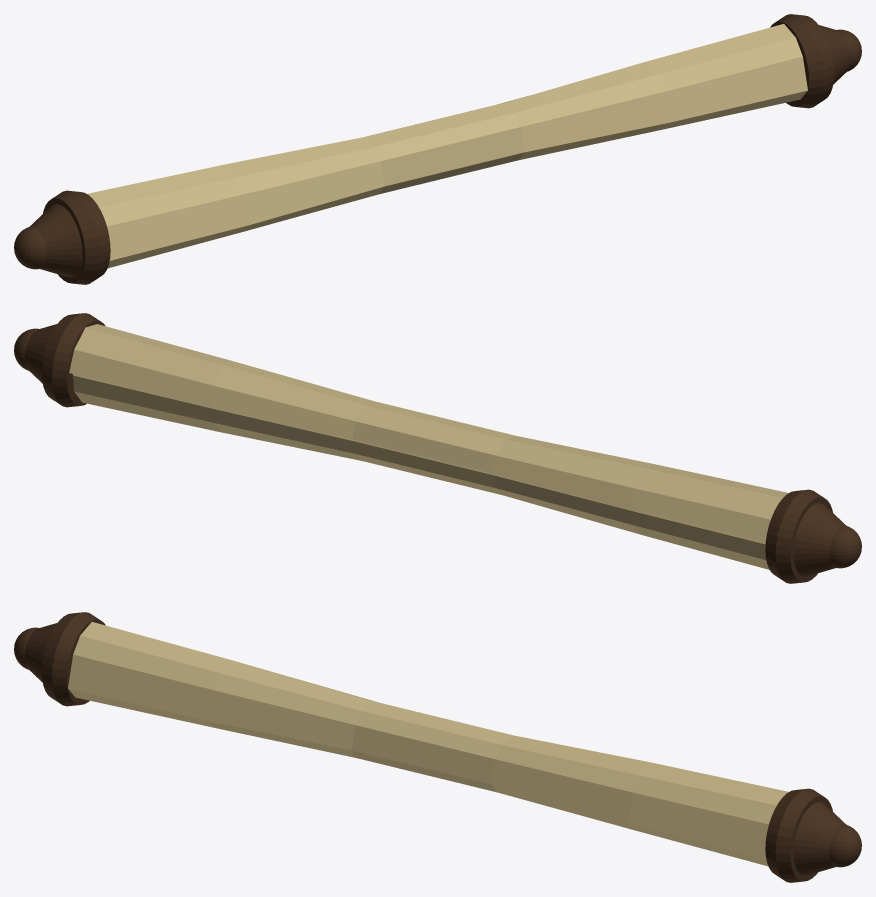
File: ParcheminStanding.fbx
3 renders of one model, top to bottom at view 1: azimuth 30°, elevation 25°; view 2: azimuth 150°, elevation 25°; view 3: azimuth 330°, elevation 25°, orthographic.
Visible parts, largest first — view 1: Plane; view 2: Plane; view 3: Plane.
Boxes of the visible parts, <box> form: Plane: <box>14,14,861,284</box>; Plane: <box>14,313,861,583</box>; Plane: <box>14,612,861,882</box>.
Size of the model in its own units: 241 by 23.86 by 23.86.
